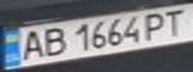1: (69, 20, 93, 53)
4: (121, 12, 148, 44)
6: (90, 18, 112, 50), (106, 16, 127, 47)
A: (15, 28, 48, 62)
B: (36, 25, 69, 57)
P: (139, 10, 172, 40)
T: (157, 6, 190, 37)
